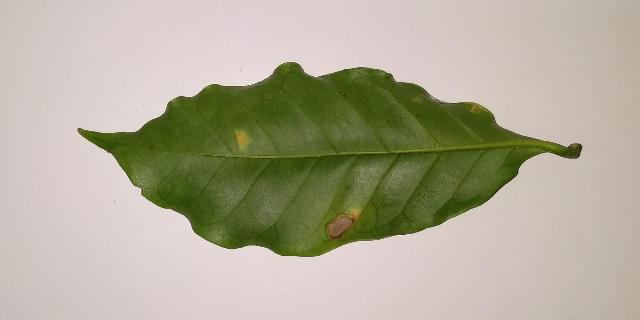miner: (327, 208, 361, 240), (235, 131, 249, 149)
